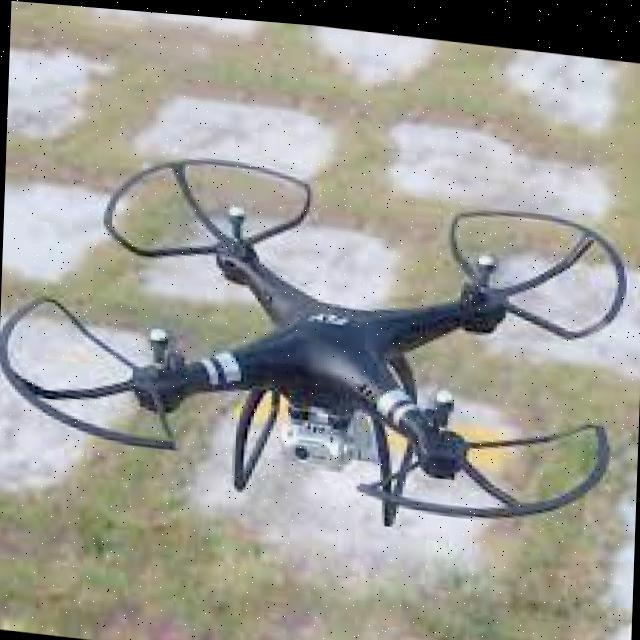drone: (0, 117, 631, 557)
